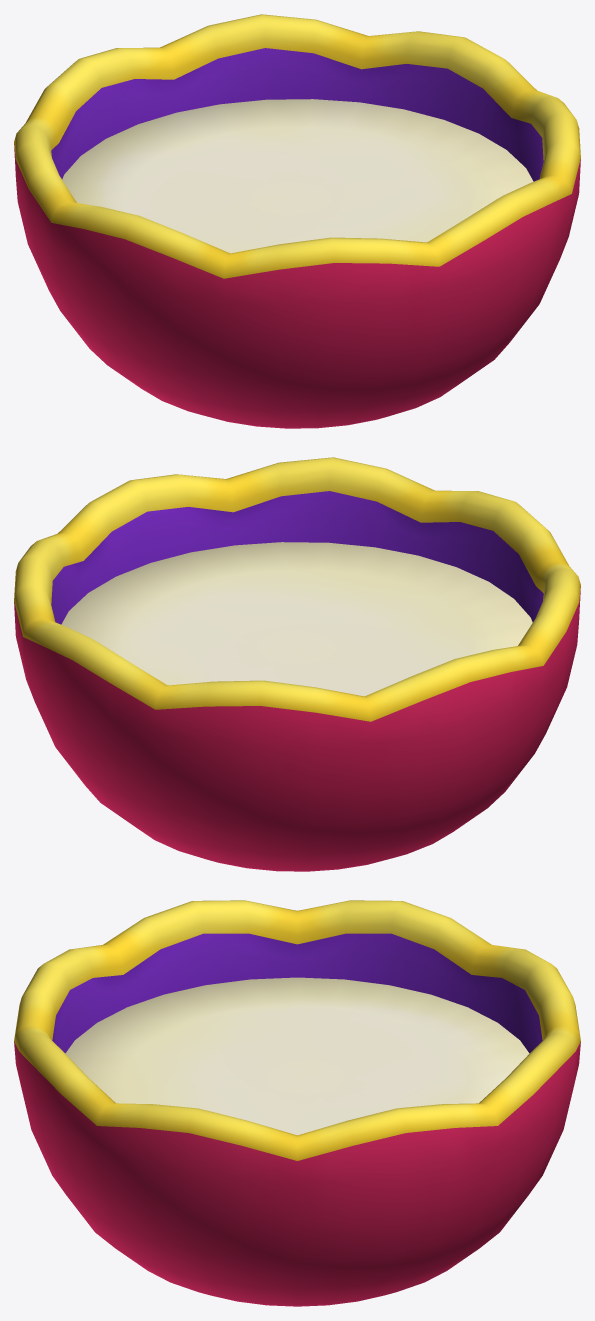
The model's file is Bowl.fbx.
3 views of the same model, one above another, from view 1: azimuth 30°, elevation 25°; view 2: azimuth 150°, elevation 25°; view 3: azimuth 270°, elevation 25° (orthographic).
Visible parts, largest first — view 1: Bowl, Milk; view 2: Bowl, Milk; view 3: Bowl, Milk.
Part boxes in pixels (x1,y1,x2,y2): Bowl: [14, 14, 580, 428]; Milk: [62, 99, 533, 253]; Bowl: [14, 457, 580, 871]; Milk: [61, 542, 532, 696]; Bowl: [14, 900, 580, 1306]; Milk: [65, 977, 529, 1135].
Bounding box in the file's own units: 265 × 265 × 132.
